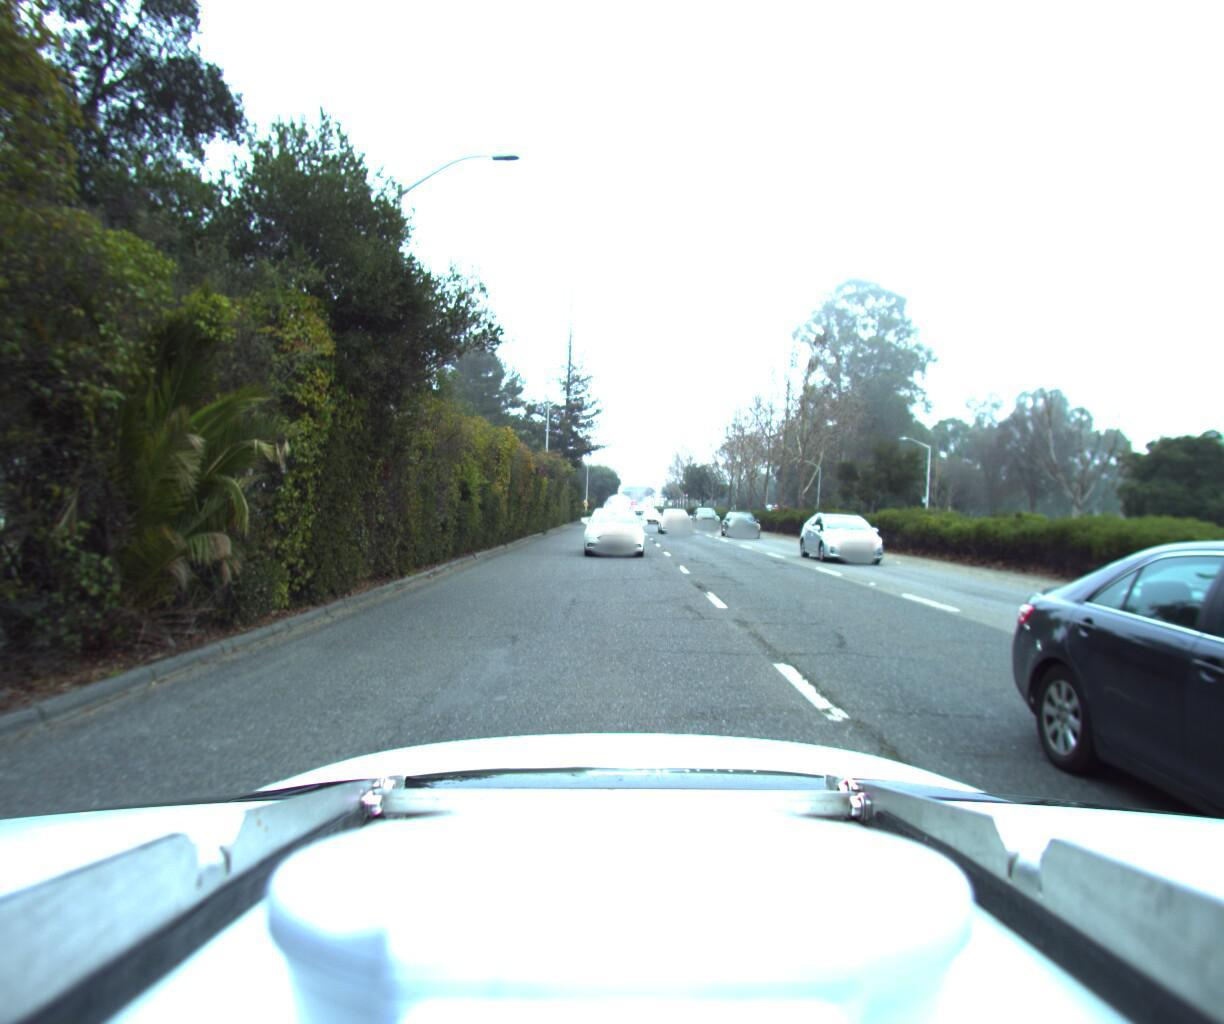car: (1112, 497, 1224, 1024), (806, 501, 910, 559), (572, 498, 645, 555), (721, 501, 769, 532), (658, 499, 701, 527), (692, 497, 724, 521), (641, 502, 663, 521)
